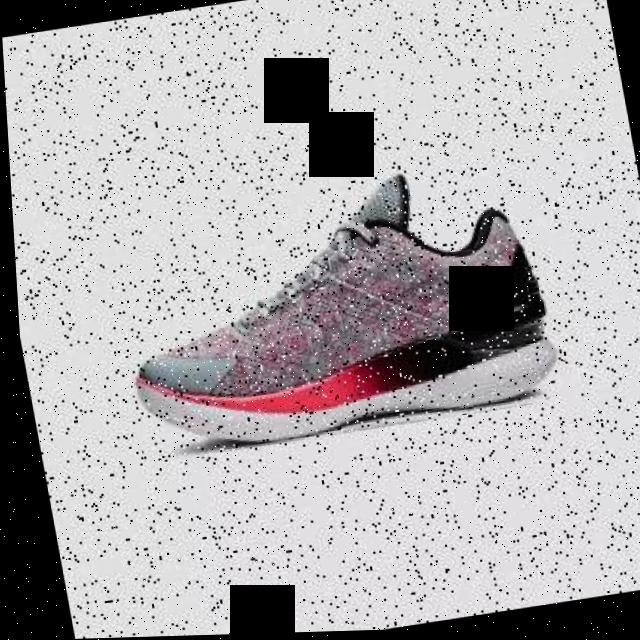shoe: (105, 158, 564, 463), (125, 171, 559, 447)
